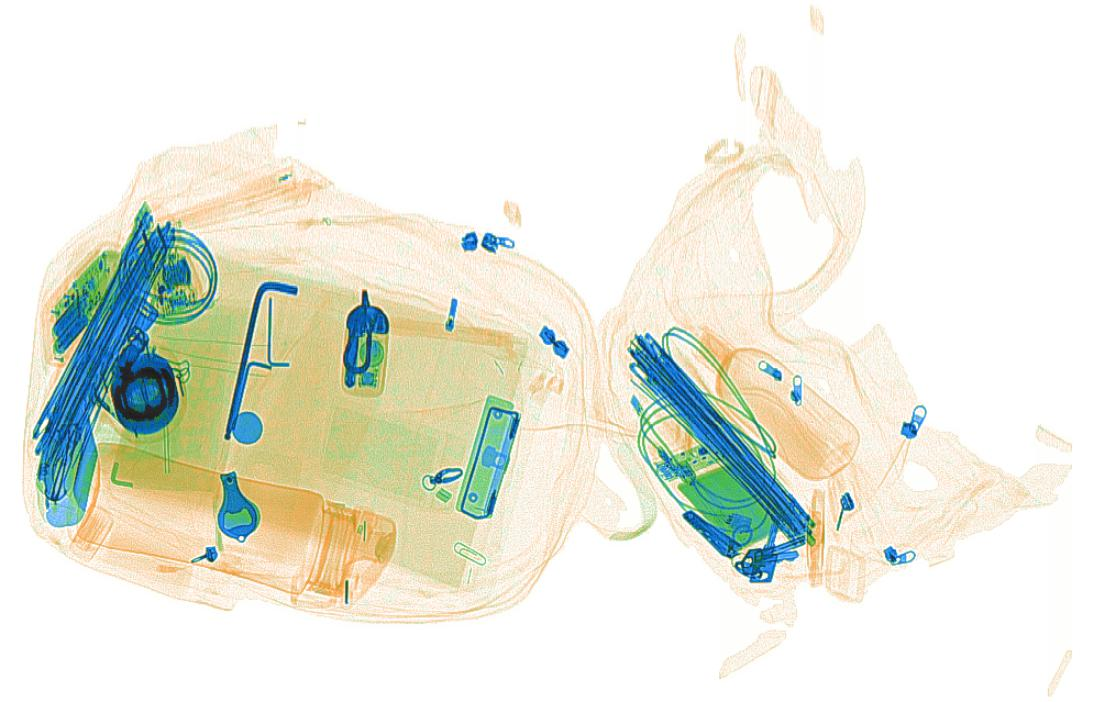battery: (51, 296, 91, 354)
